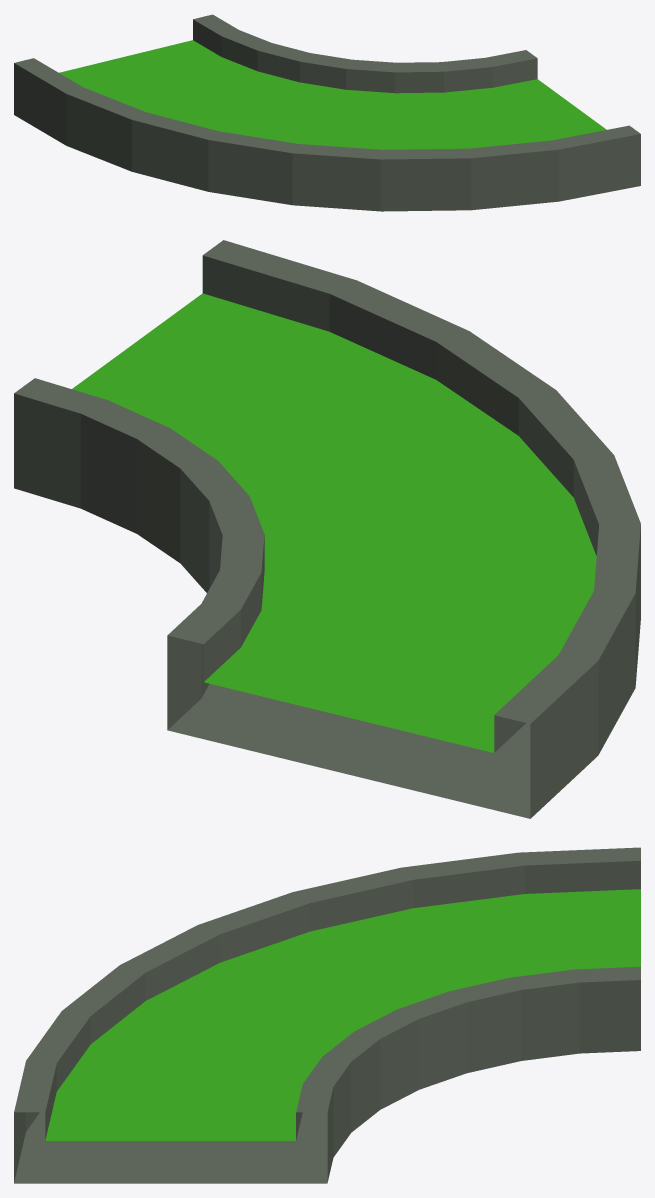
File: CornerWideWalled.fbx
3 renders of one model, top to bottom at view 1: azimuth 30°, elevation 25°; view 2: azimuth 150°, elevation 25°; view 3: azimuth 270°, elevation 25°, orthographic. The views are drawn at different scales.
Visible parts, largest first — view 1: CornerWideWalled; view 2: CornerWideWalled; view 3: CornerWideWalled.
Part boxes in pixels (x1,y1,x2,y2): CornerWideWalled: [14, 14, 640, 211]; CornerWideWalled: [14, 240, 640, 818]; CornerWideWalled: [14, 847, 640, 1183].
Size of the model in its own units: 400 by 50 by 400.
